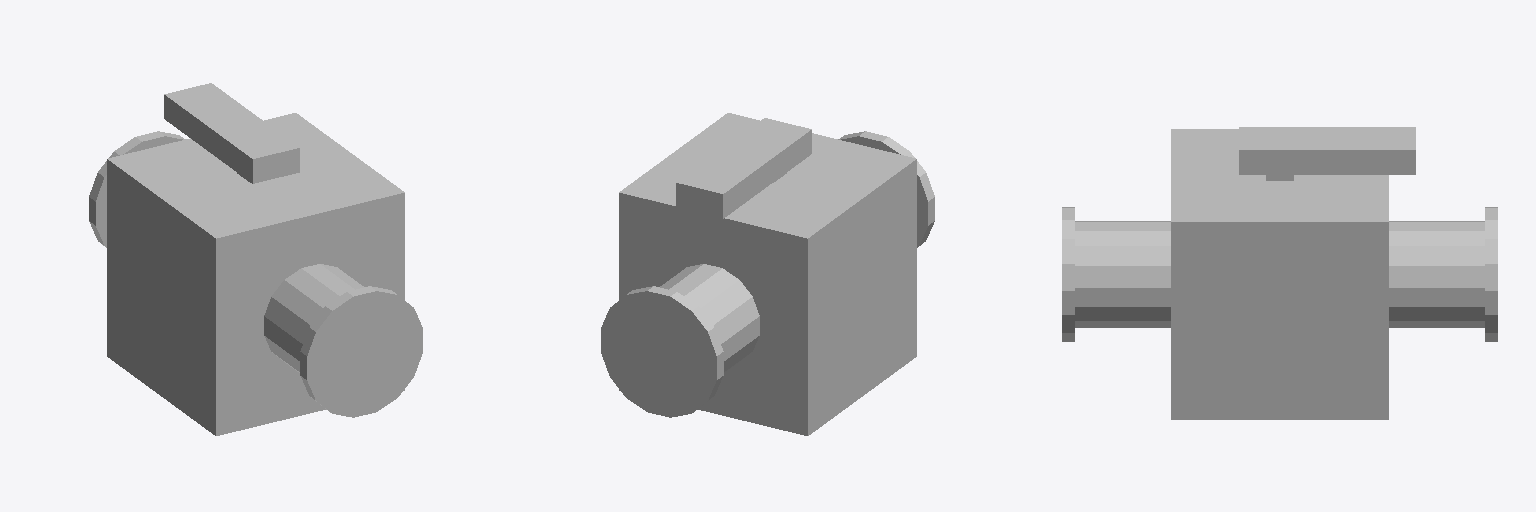
The model's file is pipeworks_valve_on.obj.
3 views of the same model, side by side, from view 1: azimuth 30°, elevation 25°; view 2: azimuth 150°, elevation 25°; view 3: azimuth 270°, elevation 25° (orthographic).
Parts seen in each view (by area): view 1: Cube.003; view 2: Cube.003; view 3: Cube.003.
Part boxes in pixels (left/top/right/bottom): Cube.003: left=89, top=83, right=422, bottom=435; Cube.003: left=601, top=113, right=934, bottom=435; Cube.003: left=1062, top=127, right=1497, bottom=419.
Bounding box in the file's own units: 0.5 × 0.5938 × 1.